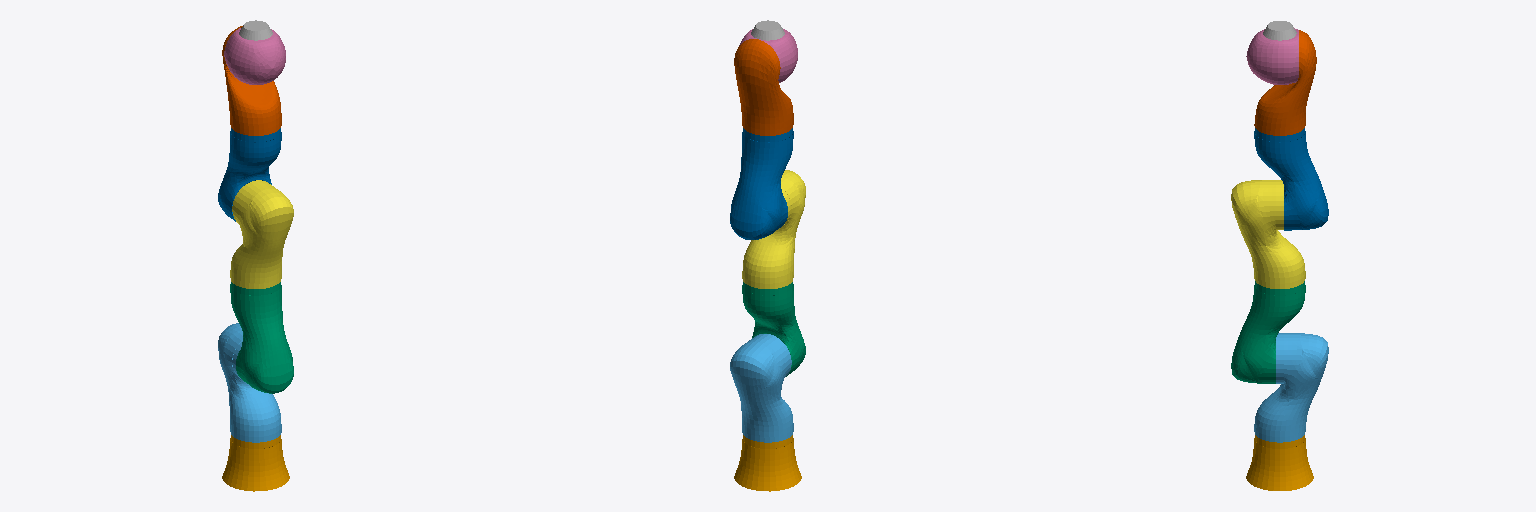
robot.urdf — kuka_lwr:
<?xml version="1.0" ?>
<!-- =================================================================================== -->
<!-- |    This document was autogenerated by xacro from kuka_lwr_arm.urdf.xacro        | -->
<!-- |    EDITING THIS FILE BY HAND IS NOT RECOMMENDED                                 | -->
<!-- =================================================================================== -->
<robot name="kuka_lwr">
  <!-- right is either 1 (for right arm) or -1 (for left arm) -->
  <link name="calib_kuka_arm_base_link">
    <inertial>
      <mass value="0"/>
      <!-- static base, disable dynamics for this link -->
      <origin rpy="0 0 0" xyz="0 0 0.055"/>
      <inertia ixx="0.00381666666667" ixy="0" ixz="0" iyy="0.0036" iyz="0" izz="0.00381666666667"/>
    </inertial>
    <visual>
      <origin rpy="0 0 0" xyz="0 0 0"/>
      <geometry>
        <mesh filename="meshes_arm/arm_base.stl"/>
      </geometry>
      <material name="Orange"/>
    </visual>
    <collision>
      <origin rpy="0 0 0" xyz="0 0 0"/>
      <geometry>
        <mesh filename="meshes_arm/convex/arm_base_convex.stl"/>
      </geometry>
    </collision>
  </link>
  <joint name="kuka_arm_0_joint" type="revolute">
    <origin rpy="0 0 0" xyz="0 0 0.11"/>
    <axis xyz="0 0 1"/>
    <limit effort="204" lower="-2.96705972839" upper="2.96705972839" velocity="1.91986217719"/>
    <dynamics damping="0.1"/>
    <parent link="calib_kuka_arm_base_link"/>
    <child link="kuka_arm_1_link"/>
  </joint>
  <link name="kuka_arm_1_link">
    <inertial>
      <mass value="2.0"/>
      <origin rpy="0 0 0" xyz="0 0.04 0.130"/>
      <inertia ixx="0.0136666666667" ixy="0" ixz="0" iyy="0.0118666666667" iyz="0" izz="0.003"/>
    </inertial>
    <visual>
      <origin rpy="0 0 3.14159265359" xyz="0 0 0"/>
      <geometry>
        <mesh filename="meshes_arm/arm_segment_a.stl"/>
      </geometry>
      <material name="Orange"/>
    </visual>
    <collision>
      <origin rpy="0 0 3.14159265359" xyz="0 0 0"/>
      <geometry>
        <mesh filename="meshes_arm/convex/arm_segment_a_convex.stl"/>
      </geometry>
    </collision>
  </link>
  <transmission name="kuka_arm_0_trans" type="pr2_mechanism_model/SimpleTransmission">
    <actuator name="kuka_arm_0_motor"/>
    <joint name="kuka_arm_0_joint"/>
    <mechanicalReduction>1.0</mechanicalReduction>
  </transmission>
  <joint name="kuka_arm_1_joint" type="revolute">
    <origin rpy="0 0 0" xyz="0 0 0.20"/>
    <axis xyz="0 -1 0"/>
    <!--limit lower="${-120 * M_PI / 180}" upper="${120 * M_PI / 180}"
             effort="306" velocity="${arm_velocity_scale_factor * 110 * M_PI / 180}" /-->
    <!-- nalt: Reduced limits to avoid contact with table - kinda hacky, should not be done here -->
    <limit effort="306" lower="-1.57079632679" upper="1.57079632679" velocity="1.91986217719"/>
    <dynamics damping="0.1"/>
    <parent link="kuka_arm_1_link"/>
    <child link="kuka_arm_2_link"/>
  </joint>
  <link name="kuka_arm_2_link">
    <inertial>
      <mass value="2.0"/>
      <origin rpy="0 0 0" xyz="0 -0.04 0.07"/>
      <inertia ixx="0.0136666666667" ixy="0" ixz="0" iyy="0.0118666666667" iyz="0" izz="0.003"/>
    </inertial>
    <visual>
      <origin rpy="3.14159265359 0 3.14159265359" xyz="0 0 0.2"/>
      <geometry>
        <mesh filename="meshes_arm/arm_segment_b.stl"/>
      </geometry>
      <material name="Orange"/>
    </visual>
    <collision>
      <origin rpy="3.14159265359 0 3.14159265359" xyz="0 0 0.2"/>
      <geometry>
        <mesh filename="meshes_arm/convex/arm_segment_b_convex.stl"/>
      </geometry>
    </collision>
  </link>
  <transmission name="kuka_arm_1_trans" type="pr2_mechanism_model/SimpleTransmission">
    <actuator name="kuka_arm_1_motor"/>
    <joint name="kuka_arm_1_joint"/>
    <mechanicalReduction>1.0</mechanicalReduction>
  </transmission>
  <joint name="kuka_arm_2_joint" type="revolute">
    <origin rpy="0 0 0" xyz="0 0 0.20"/>
    <axis xyz="0 0 1"/>
    <limit effort="204" lower="-2.96705972839" upper="2.96705972839" velocity="2.26892802759"/>
    <dynamics damping="0.1"/>
    <parent link="kuka_arm_2_link"/>
    <child link="kuka_arm_3_link"/>
  </joint>
  <link name="kuka_arm_3_link">
    <inertial>
      <mass value="2.0"/>
      <origin rpy="0 0 0" xyz="0 -0.04 0.130"/>
      <inertia ixx="0.0136666666667" ixy="0" ixz="0" iyy="0.0118666666667" iyz="0" izz="0.003"/>
    </inertial>
    <visual>
      <origin rpy="0 0 0" xyz="0 0 0"/>
      <geometry>
        <mesh filename="meshes_arm/arm_segment_a.stl"/>
      </geometry>
      <material name="Orange"/>
    </visual>
    <collision>
      <origin rpy="0 0 0" xyz="0 0 0"/>
      <geometry>
        <mesh filename="meshes_arm/convex/arm_segment_a_convex.stl"/>
      </geometry>
    </collision>
  </link>
  <transmission name="kuka_arm_2_trans" type="pr2_mechanism_model/SimpleTransmission">
    <actuator name="kuka_arm_2_motor"/>
    <joint name="kuka_arm_2_joint"/>
    <mechanicalReduction>1.0</mechanicalReduction>
  </transmission>
  <joint name="kuka_arm_3_joint" type="revolute">
    <origin rpy="0 0 0" xyz="0 0 0.20"/>
    <axis xyz="0 1 0"/>
    <limit effort="306" lower="-2.09439510239" upper="2.09439510239" velocity="2.26892802759"/>
    <dynamics damping="0.1"/>
    <parent link="kuka_arm_3_link"/>
    <child link="kuka_arm_4_link"/>
  </joint>
  <link name="kuka_arm_4_link">
    <inertial>
      <mass value="2.0"/>
      <origin rpy="0 0 0" xyz="0 0.04 0.07"/>
      <inertia ixx="0.0136666666667" ixy="0" ixz="0" iyy="0.0118666666667" iyz="0" izz="0.003"/>
    </inertial>
    <visual>
      <origin rpy="0 3.14159265359 3.14159265359" xyz="0 0 0.2"/>
      <geometry>
        <mesh filename="meshes_arm/arm_segment_b.stl"/>
      </geometry>
      <material name="Orange"/>
    </visual>
    <collision>
      <origin rpy="0 3.14159265359 3.14159265359" xyz="0 0 0.2"/>
      <geometry>
        <mesh filename="meshes_arm/convex/arm_segment_b_convex.stl"/>
      </geometry>
    </collision>
  </link>
  <transmission name="kuka_arm_3_trans" type="pr2_mechanism_model/SimpleTransmission">
    <actuator name="kuka_arm_3_motor"/>
    <joint name="kuka_arm_3_joint"/>
    <mechanicalReduction>1.0</mechanicalReduction>
  </transmission>
  <joint name="kuka_arm_4_joint" type="revolute">
    <origin rpy="0 0 0" xyz="0 0 0.20"/>
    <axis xyz="0 0 1"/>
    <limit effort="204" lower="-2.96705972839" upper="2.96705972839" velocity="2.26892802759"/>
    <dynamics damping="0.1"/>
    <parent link="kuka_arm_4_link"/>
    <child link="kuka_arm_5_link"/>
  </joint>
  <link name="kuka_arm_5_link">
    <inertial>
      <mass value="2.0"/>
      <origin rpy="0 0 0" xyz="0 0.02 0.124"/>
      <inertia ixx="0.0126506666667" ixy="0" ixz="0" iyy="0.0108506666667" iyz="0" izz="0.003"/>
    </inertial>
    <visual>
      <origin rpy="0 0 3.14159265359" xyz="0 0 0"/>
      <geometry name="kuka_arm_5_geom">
        <mesh filename="meshes_arm/arm_segment_last.stl"/>
      </geometry>
      <material name="Orange"/>
    </visual>
    <collision>
      <origin rpy="0 0 3.14159265359" xyz="0 0 0"/>
      <geometry>
        <mesh filename="meshes_arm/convex/arm_segment_last_convex.stl"/>
      </geometry>
    </collision>
  </link>
  <transmission name="kuka_arm_4_trans" type="pr2_mechanism_model/SimpleTransmission">
    <actuator name="kuka_arm_4_motor"/>
    <joint name="kuka_arm_4_joint"/>
    <mechanicalReduction>1.0</mechanicalReduction>
  </transmission>
  <joint name="kuka_arm_5_joint" type="revolute">
    <origin rpy="0 0 0" xyz="0 0 0.19"/>
    <axis xyz="0 -1 0"/>
    <limit effort="306" lower="-2.09439510239" upper="2.09439510239" velocity="3.14159265359"/>
    <dynamics damping="0.1"/>
    <parent link="kuka_arm_5_link"/>
    <child link="kuka_arm_6_link"/>
  </joint>
  <link name="kuka_arm_6_link">
    <inertial>
      <mass value="2.0"/>
      <origin rpy="0 0 0" xyz="0 0 0"/>
      <inertia ixx="0.00520833333333" ixy="0" ixz="0" iyy="0.00520833333333" iyz="0" izz="0.00520833333333"/>
    </inertial>
    <visual>
      <origin rpy="0 0 3.14159265359" xyz="0 0 0"/>
      <geometry>
        <mesh filename="meshes_arm/arm_wrist.stl"/>
      </geometry>
      <material name="Grey"/>
    </visual>
    <collision>
      <origin rpy="0 0 3.14159265359" xyz="0 0 0"/>
      <geometry>
        <mesh filename="meshes_arm/convex/arm_wrist_convex.stl"/>
      </geometry>
    </collision>
  </link>
  <transmission name="kuka_arm_5_trans" type="pr2_mechanism_model/SimpleTransmission">
    <actuator name="kuka_arm_5_motor"/>
    <joint name="kuka_arm_5_joint"/>
    <mechanicalReduction>1.0</mechanicalReduction>
  </transmission>
  <joint name="kuka_arm_6_joint" type="revolute">
    <origin rpy="0 0 0" xyz="0 0 0.078"/>
    <axis xyz="0 0 1"/>
    <limit effort="204" lower="-2.96705972839" upper="2.96705972839" velocity="3.14159265359"/>
    <dynamics damping="0.1"/>
    <parent link="kuka_arm_6_link"/>
    <child link="kuka_arm_7_link"/>
  </joint>
  <link name="kuka_arm_7_link">
    <inertial>
      <mass value="2.0"/>
      <origin xyz="0 0 0"/>
      <inertia ixx="0.000833333333333" ixy="0" ixz="0" iyy="0.000833333333333" iyz="0" izz="0.000833333333333"/>
    </inertial>
    <visual>
      <origin rpy="0 0 3.14159265359" xyz="0 0 0"/>
      <geometry>
        <mesh filename="meshes_arm/arm_flanche.stl"/>
      </geometry>
      <material name="Grey"/>
    </visual>
    <collision>
      <origin rpy="0 0 3.14159265359" xyz="0 0 0"/>
      <geometry>
        <mesh filename="meshes_arm/convex/arm_flanche_convex.stl"/>
      </geometry>
    </collision>
  </link>
  <transmission name="kuka_arm_6_trans" type="pr2_mechanism_model/SimpleTransmission">
    <actuator name="kuka_arm_6_motor"/>
    <joint name="kuka_arm_6_joint"/>
    <mechanicalReduction>1.0</mechanicalReduction>
  </transmission>
</robot>

--- Render facts (derived) ---
Views: 3 orthographic renders of the robot side by side, from view 1: azimuth 30°, elevation 25°; view 2: azimuth 150°, elevation 25°; view 3: azimuth 270°, elevation 25°.
Model kuka_lwr with 8 links and 7 joints (7 revolute), rooted at calib_kuka_arm_base_link, posed every joint at zero.
Visible links, largest first — view 1: kuka_arm_3_link, kuka_arm_2_link, kuka_arm_1_link, calib_kuka_arm_base_link, kuka_arm_4_link, kuka_arm_5_link, kuka_arm_6_link; view 2: kuka_arm_1_link, kuka_arm_4_link, kuka_arm_5_link, kuka_arm_3_link, kuka_arm_2_link, calib_kuka_arm_base_link, kuka_arm_6_link; view 3: kuka_arm_1_link, kuka_arm_3_link, kuka_arm_2_link, kuka_arm_4_link, kuka_arm_5_link, calib_kuka_arm_base_link, kuka_arm_6_link.
Link boxes in pixels (left/top/right/bottom): kuka_arm_3_link: left=230, top=180, right=293, bottom=288; kuka_arm_2_link: left=230, top=282, right=293, bottom=393; kuka_arm_1_link: left=218, top=323, right=281, bottom=442; calib_kuka_arm_base_link: left=222, top=435, right=289, bottom=491; kuka_arm_4_link: left=218, top=128, right=281, bottom=221; kuka_arm_5_link: left=222, top=26, right=281, bottom=135; kuka_arm_6_link: left=224, top=28, right=285, bottom=84; kuka_arm_1_link: left=730, top=334, right=793, bottom=442; kuka_arm_4_link: left=730, top=128, right=793, bottom=239; kuka_arm_5_link: left=734, top=39, right=793, bottom=135; kuka_arm_3_link: left=742, top=170, right=805, bottom=288; kuka_arm_2_link: left=742, top=282, right=805, bottom=376; calib_kuka_arm_base_link: left=734, top=435, right=801, bottom=491; kuka_arm_6_link: left=739, top=29, right=797, bottom=82; kuka_arm_1_link: left=1254, top=333, right=1328, bottom=442; kuka_arm_3_link: left=1231, top=180, right=1305, bottom=288; kuka_arm_2_link: left=1231, top=281, right=1305, bottom=383; kuka_arm_4_link: left=1254, top=128, right=1328, bottom=230; kuka_arm_5_link: left=1254, top=30, right=1316, bottom=135; calib_kuka_arm_base_link: left=1246, top=435, right=1313, bottom=490; kuka_arm_6_link: left=1246, top=28, right=1298, bottom=84.
Size in the robot's own frame: 0.1601 by 0.2319 by 1.18 metres.
8 mesh visuals loaded from 6 distinct referenced files (6 binary STL).